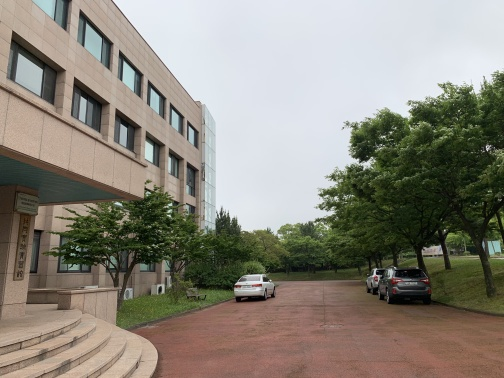Joint Experimental Labs: (2, 3, 222, 373)
